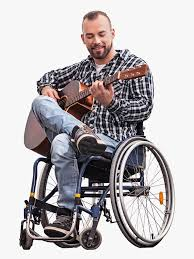wheelchair: (18, 10, 176, 249)
